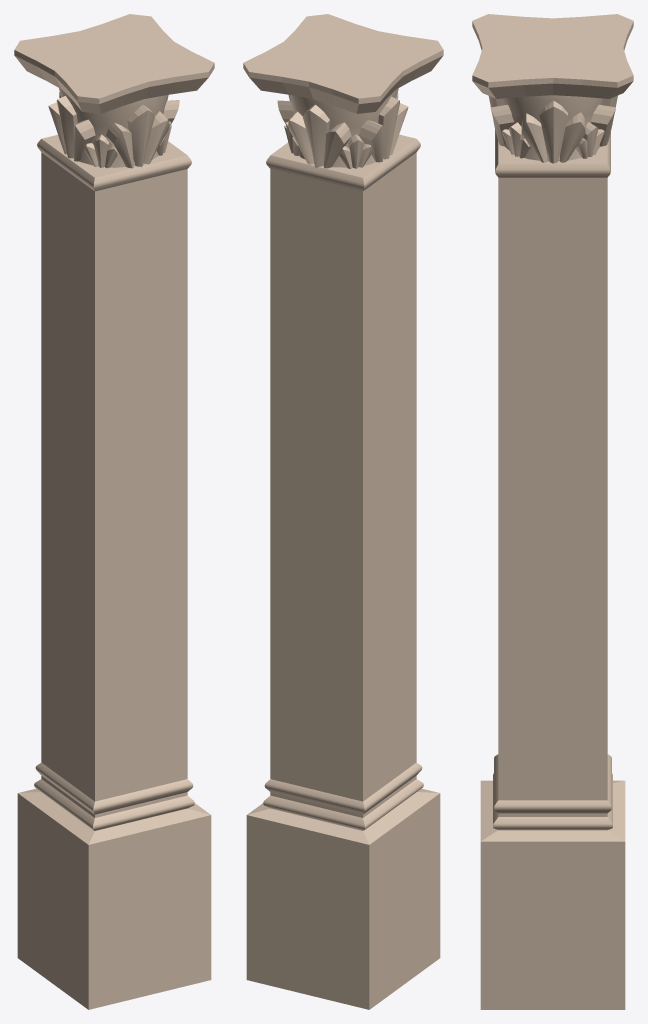
File: BC_Pillar_J.fbx
The picture shows the model from 3 angles, left to right: view 1: azimuth 30°, elevation 25°; view 2: azimuth 150°, elevation 25°; view 3: azimuth 270°, elevation 25°; orthographic projection. The views are drawn at different scales.
Parts seen in each view (by area): view 1: BC_Pillar_J; view 2: BC_Pillar_J; view 3: BC_Pillar_J.
Part boxes in pixels (x1=…): BC_Pillar_J: x1=14, y1=14, x2=214, y2=1009; BC_Pillar_J: x1=243, y1=14, x2=443, y2=1009; BC_Pillar_J: x1=472, y1=14, x2=633, y2=1009.
Bounding box in the file's own units: 350 × 2225 × 350.
